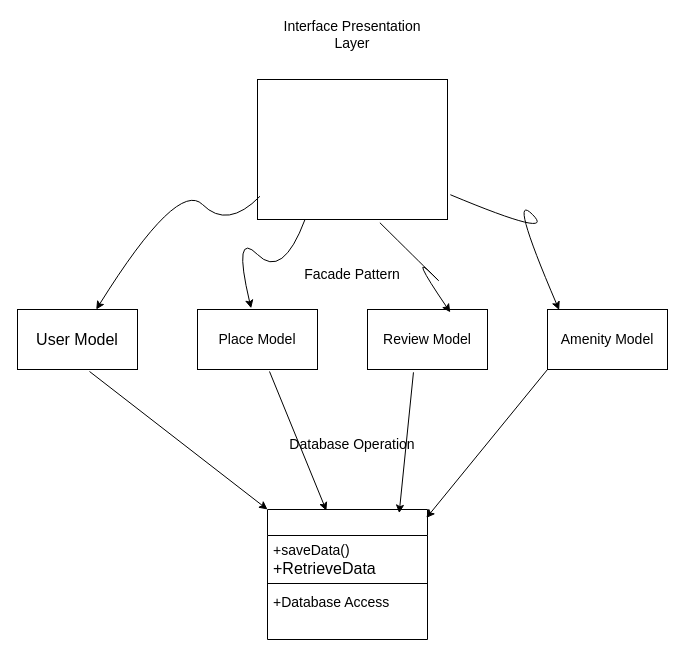
Some shapes in this 685 by 659 pixel diagram are drawn without their labels. Each missing label, with the box of its shape:
Interface PresentationLayer +Service API +handleRequest(): (256, 78, 448, 220)
Persistance Layer: (266, 508, 428, 640)
